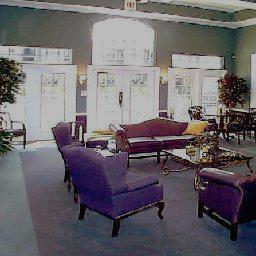Puerta: (94, 71, 153, 117)
